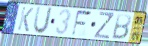3: (55, 8, 73, 37)
B: (110, 13, 132, 41)
F: (70, 9, 93, 38)
K: (17, 6, 35, 33)
U: (32, 5, 54, 36)
Z: (93, 11, 115, 40)
